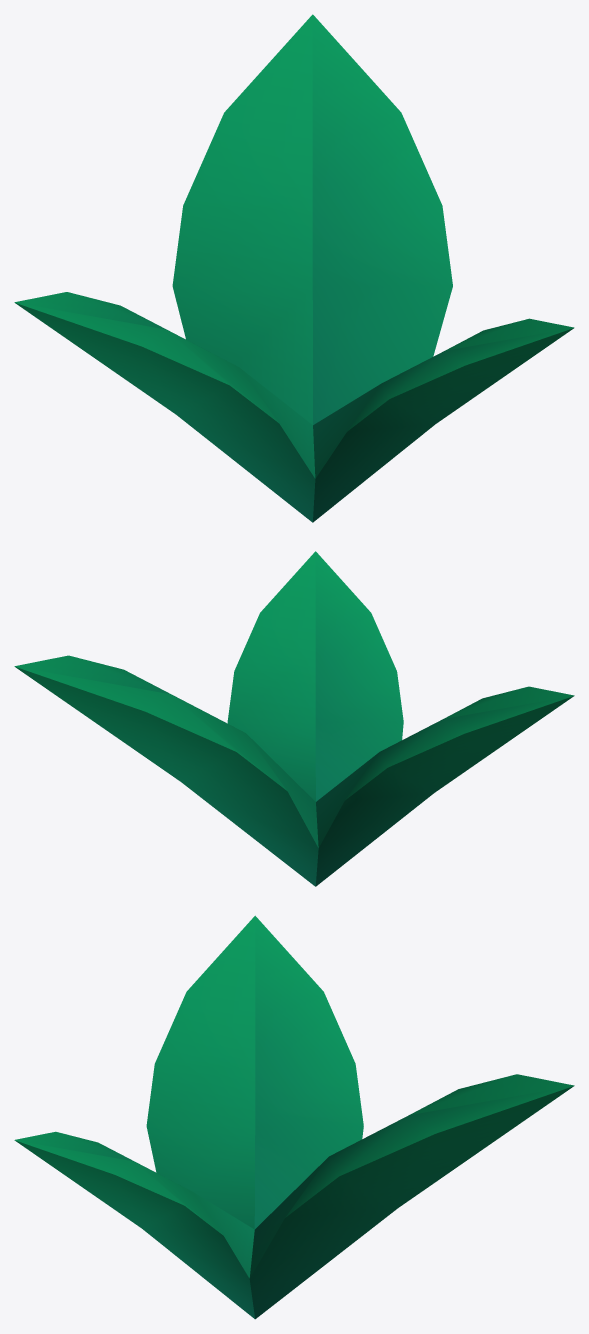
The model's file is waterplant_a.glb.
3 renders of one model, top to bottom at view 1: azimuth 30°, elevation 25°; view 2: azimuth 150°, elevation 25°; view 3: azimuth 270°, elevation 25°, orthographic. The views are drawn at different scales.
Parts seen in each view (by area): view 1: waterplant_a; view 2: waterplant_a; view 3: waterplant_a.
Part boxes in pixels (x1,y1,x2,y2): waterplant_a: [14, 14, 574, 522]; waterplant_a: [14, 551, 574, 886]; waterplant_a: [14, 915, 574, 1319].
Bounding box in the file's own units: 0.0991 × 0.0662 × 0.1078.
1 material, 1 textured.
